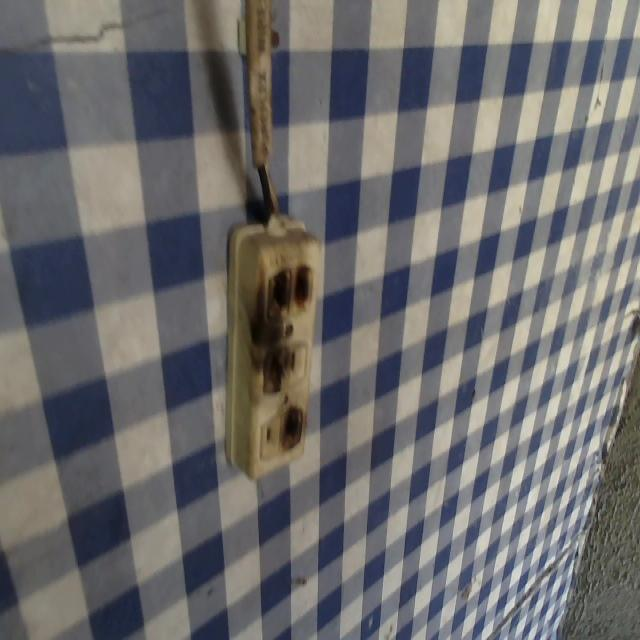-: (261, 260, 314, 313), (259, 340, 287, 393), (280, 404, 304, 451)
